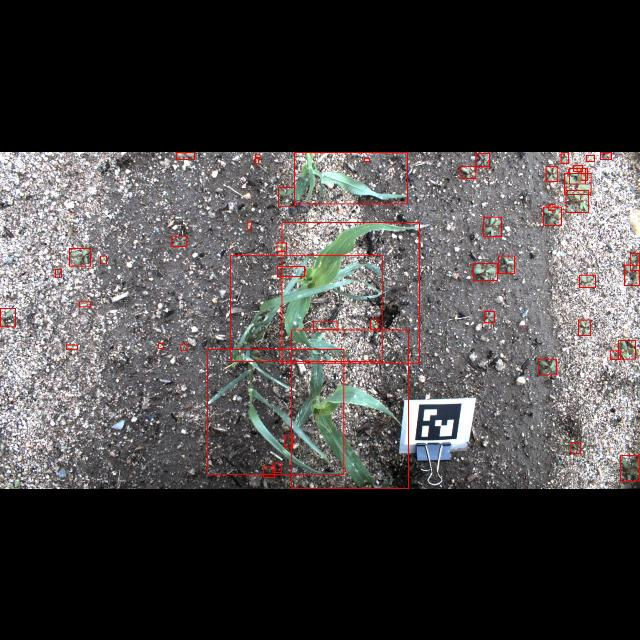crop: (282, 222, 418, 362), (292, 329, 408, 488), (294, 151, 408, 203)
weed: (208, 349, 344, 475), (230, 255, 382, 362), (565, 172, 591, 194), (566, 188, 588, 212), (620, 456, 640, 480), (473, 262, 497, 280), (70, 247, 90, 265), (484, 216, 502, 236), (624, 264, 640, 286), (618, 339, 636, 358), (543, 206, 561, 224), (278, 187, 294, 206), (568, 167, 586, 183), (539, 358, 557, 374), (498, 255, 514, 272), (1, 308, 16, 326), (278, 266, 304, 276), (579, 274, 595, 288), (476, 152, 490, 166), (578, 319, 590, 335), (460, 165, 476, 177), (313, 321, 337, 329), (630, 252, 640, 270), (172, 234, 186, 246), (546, 166, 558, 180), (484, 310, 494, 322), (571, 442, 581, 453), (176, 152, 194, 158), (264, 466, 274, 476), (610, 350, 620, 360), (284, 435, 292, 447), (580, 167, 588, 179), (272, 463, 282, 472), (277, 242, 287, 250), (561, 152, 569, 162), (370, 319, 378, 329), (66, 344, 78, 350), (600, 152, 612, 158), (100, 255, 106, 263), (55, 268, 61, 276), (586, 154, 594, 160), (574, 164, 582, 170), (80, 302, 90, 306), (158, 342, 164, 348), (181, 344, 187, 350), (548, 203, 554, 209), (247, 221, 251, 229), (364, 158, 370, 160), (256, 158, 258, 162), (256, 154, 260, 156)
